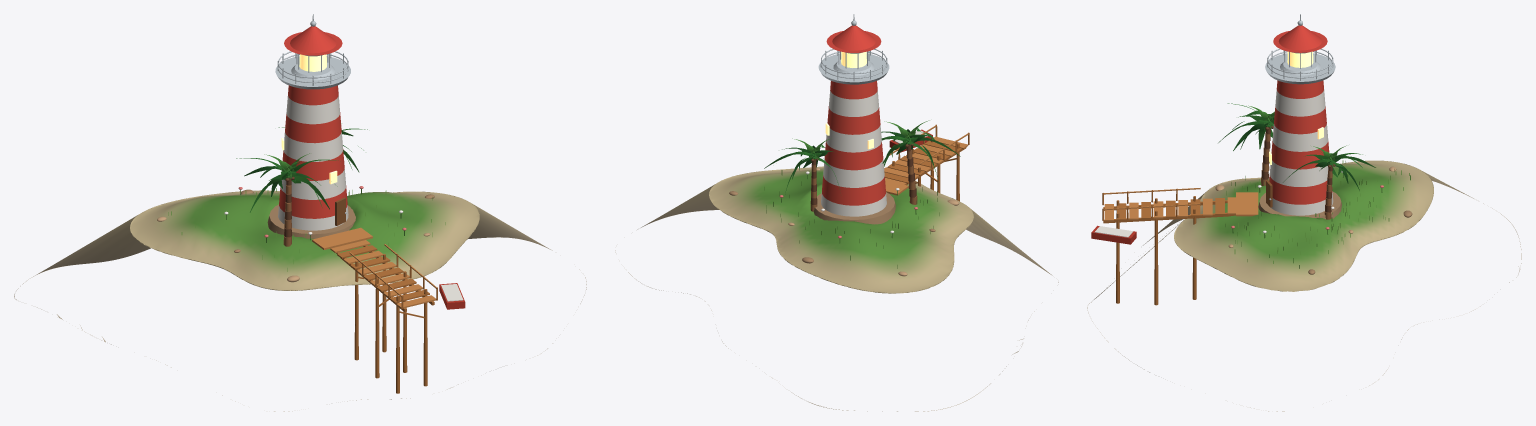
File: island.glb
3 views of the same model, side by side, from view 1: azimuth 30°, elevation 25°; view 2: azimuth 150°, elevation 25°; view 3: azimuth 270°, elevation 25° (orthographic). The views are drawn at different scales.
Visible parts, largest first — view 1: LighthouseIsland; view 2: LighthouseIsland; view 3: LighthouseIsland.
Part boxes in pixels (bbox=[...]): LighthouseIsland: bbox=[14, 14, 586, 411]; LighthouseIsland: bbox=[615, 14, 1058, 411]; LighthouseIsland: bbox=[1087, 14, 1521, 411].
Bounding box in the file's own units: 0.28 × 0.1811 × 0.2394.
